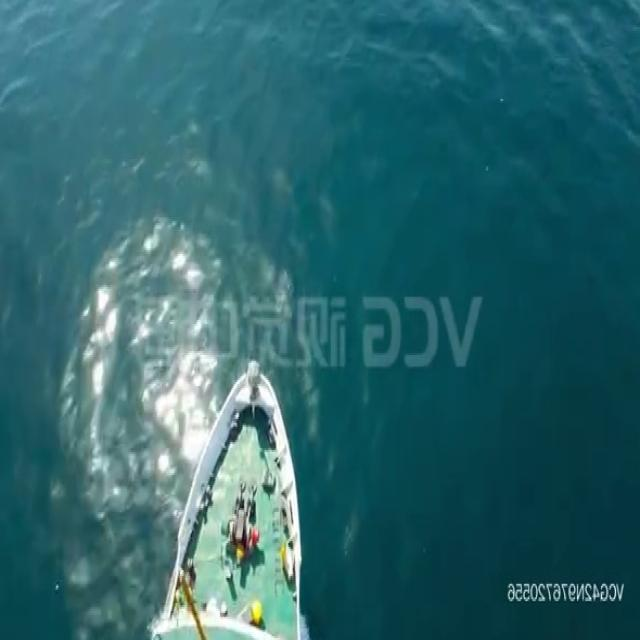passenger ship: (140, 355, 308, 640)
